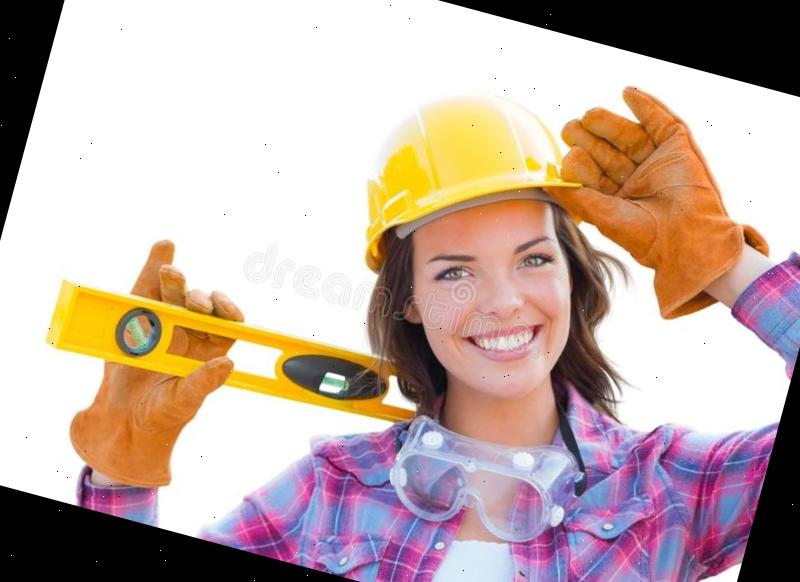helmet: (340, 61, 606, 315)
no_wear: (222, 386, 726, 582)
